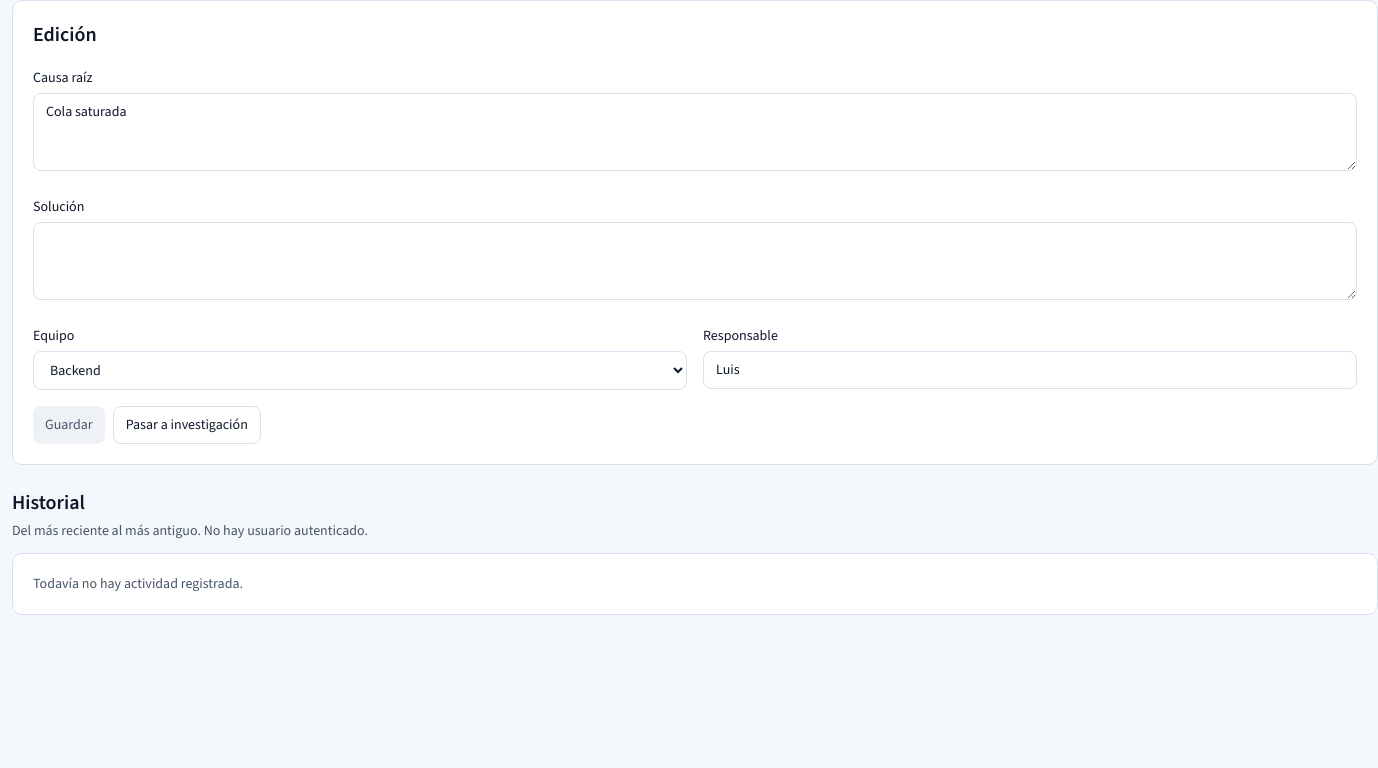
Scenario: IncidentEditor › shows a 409 conflict without claiming the changes were saved
This screenshot has width=1378, height=768.
Replace the text in the text box labelled "Causa raíz" with "Otra causa" at (695, 132), box [33,93,1357,171]
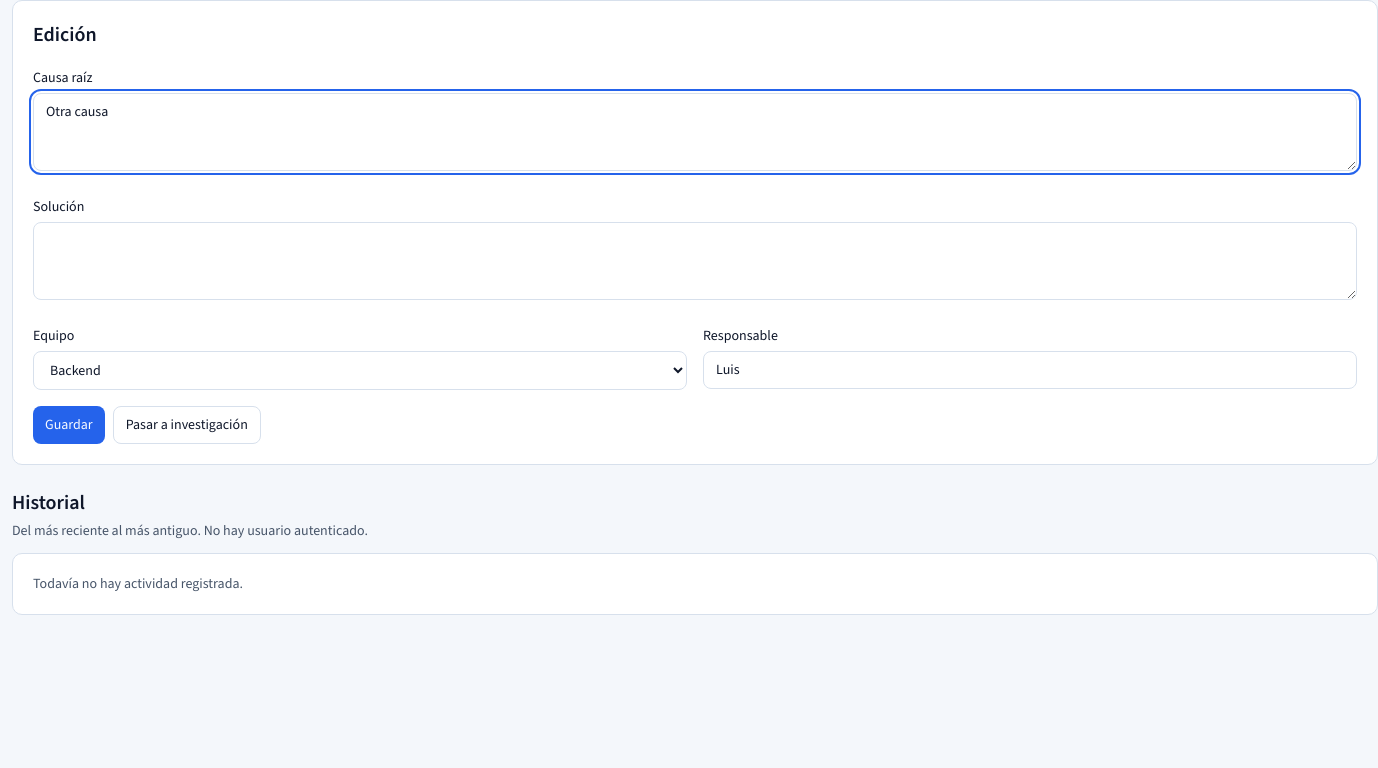
Click the button "Guardar" at (69, 425), box [33,406,105,444]
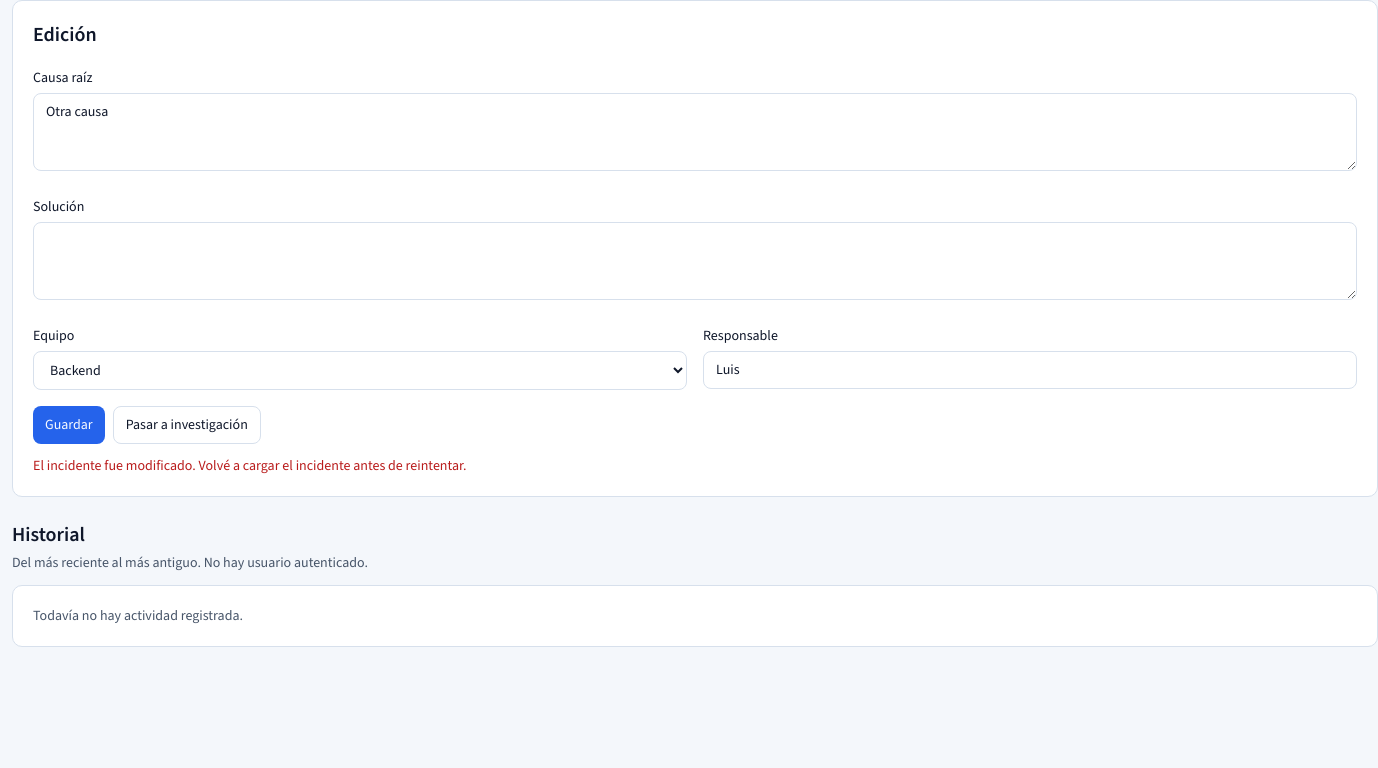
Now the button "Guardar" is enabled, box [33,406,105,444]
Now the text "El incidente fue modificado. Volvé a cargar el incidente antes de reintentar." is shown, box [33,456,466,475]
